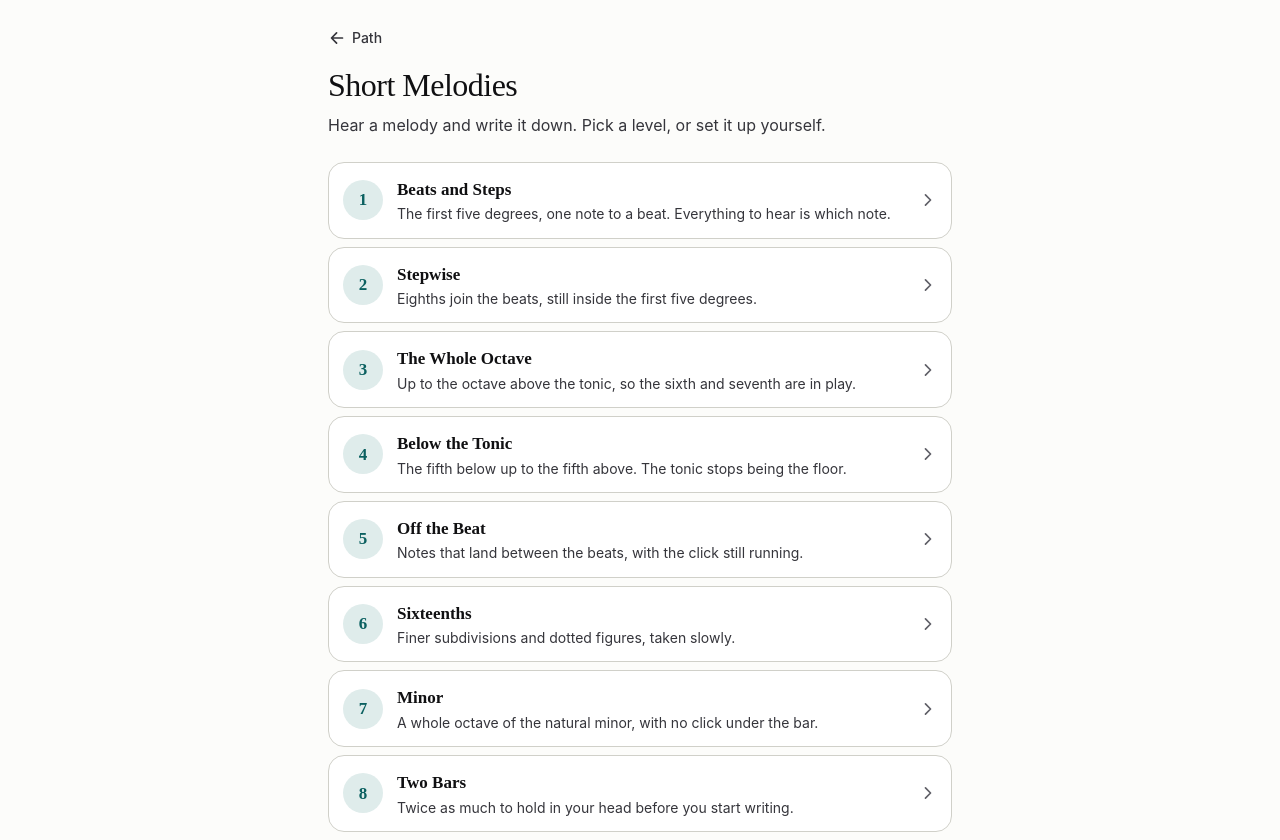
Test: Melodic Dictation › starts a round from a level, in the same tap
Click the text "Beats and Steps".
click(454, 189)  # box [397,180,511,199]
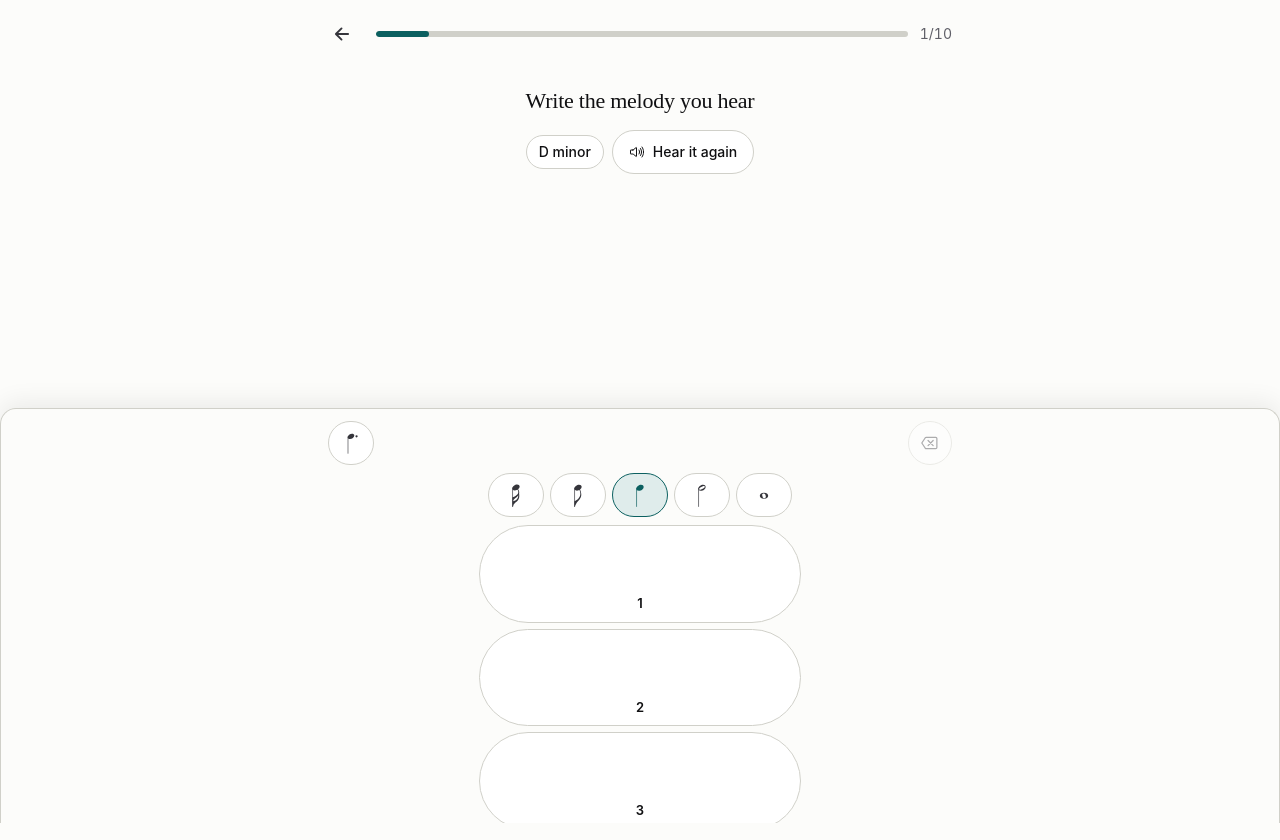
Check: the heading "Write the melody you hear" is shown, box [526,88,754,114]
